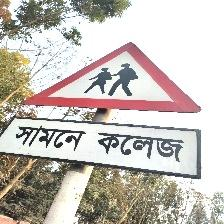College-in-front: (0, 24, 224, 201)
